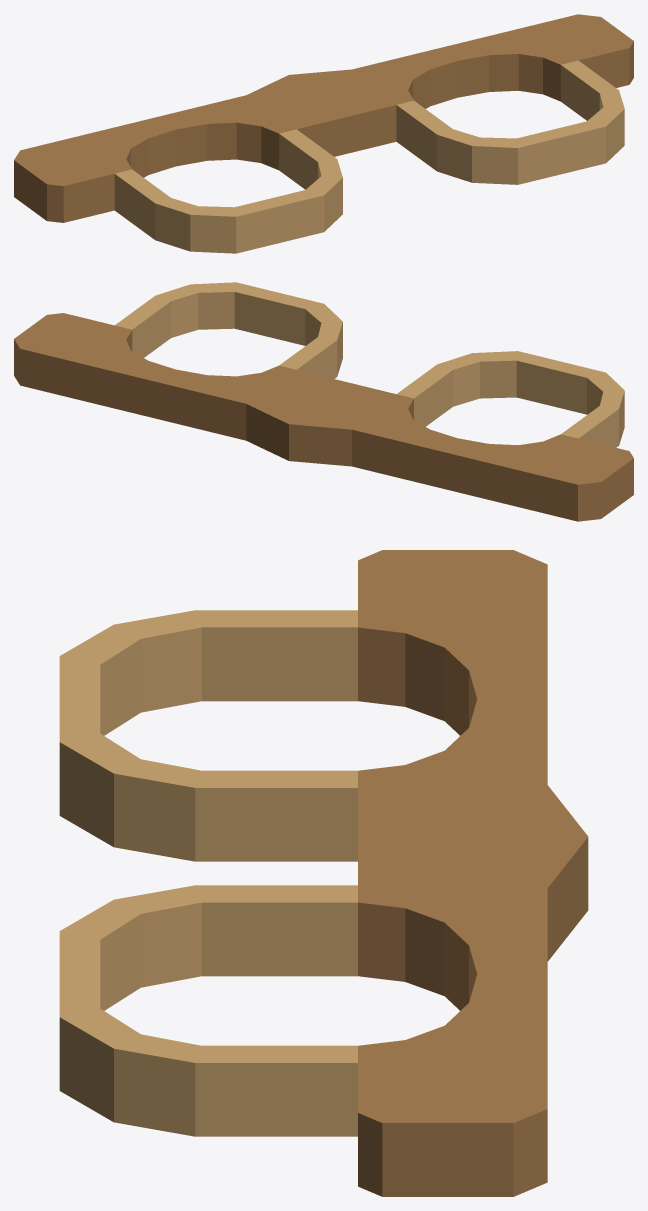
3 views of the same model, one above another, from view 1: azimuth 30°, elevation 25°; view 2: azimuth 150°, elevation 25°; view 3: azimuth 270°, elevation 25° (orthographic). The views are drawn at different scales.
Visible parts, largest first — view 1: WholeDoubleScallopedTransverseTimberBeam, WholeLeftContinuousNeckBow, WholeRightContinuousNeckBow; view 2: WholeDoubleScallopedTransverseTimberBeam, WholeLeftContinuousNeckBow, WholeRightContinuousNeckBow; view 3: WholeDoubleScallopedTransverseTimberBeam, WholeLeftContinuousNeckBow, WholeRightContinuousNeckBow.
Boxes of the visible parts, bbox=[...] form: WholeDoubleScallopedTransverseTimberBeam: bbox=[14, 14, 633, 222]; WholeLeftContinuousNeckBow: bbox=[114, 129, 342, 253]; WholeRightContinuousNeckBow: bbox=[396, 60, 624, 184]; WholeDoubleScallopedTransverseTimberBeam: bbox=[14, 313, 633, 521]; WholeLeftContinuousNeckBow: bbox=[397, 351, 624, 447]; WholeRightContinuousNeckBow: bbox=[115, 282, 342, 378]; WholeDoubleScallopedTransverseTimberBeam: bbox=[358, 550, 588, 1196]; WholeLeftContinuousNeckBow: bbox=[59, 610, 357, 861]; WholeRightContinuousNeckBow: bbox=[59, 885, 357, 1136].
Size of the model in its own units: 1 by 0.06 by 0.39.
